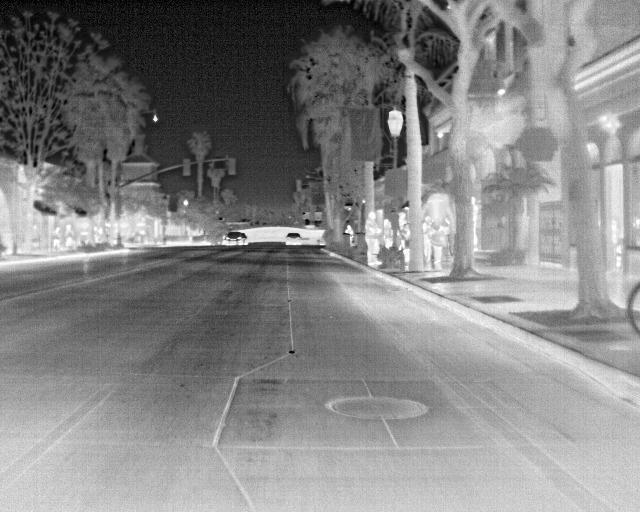bicycle: (222, 228, 248, 246), (283, 232, 306, 248)
empty: (362, 210, 383, 266), (395, 214, 412, 269), (422, 213, 437, 268), (381, 216, 396, 252), (341, 221, 357, 249), (61, 223, 77, 250), (49, 226, 63, 253)
